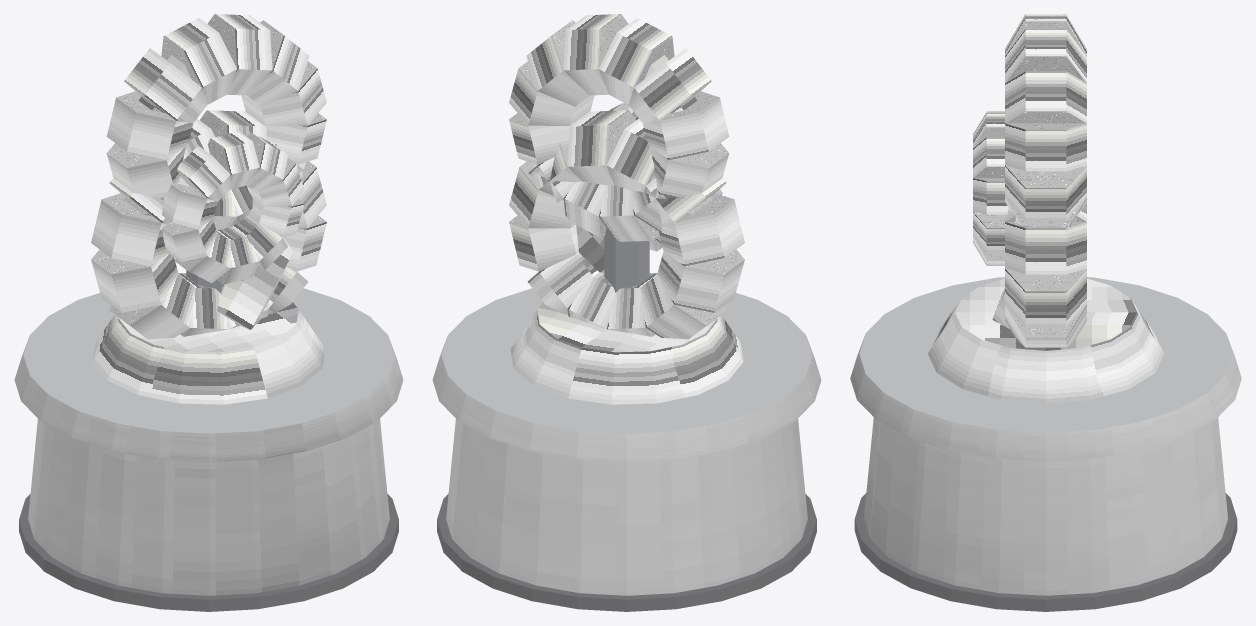
File: Building_SculptureSmall__B.glb
3 renders of one model, left to right at view 1: azimuth 30°, elevation 25°; view 2: azimuth 150°, elevation 25°; view 3: azimuth 270°, elevation 25°, orthographic.
Parts seen in each view (by area): view 1: SculptureSmall__B; view 2: SculptureSmall__B; view 3: SculptureSmall__B.
Boxes of the visible parts, <box> form: SculptureSmall__B: <box>14,14,403,611</box>; SculptureSmall__B: <box>432,14,821,611</box>; SculptureSmall__B: <box>850,14,1241,611</box>.
Bounding box in the file's own units: 0.86 × 1.24 × 0.86.
Materials: 1 (1 with a texture image).
